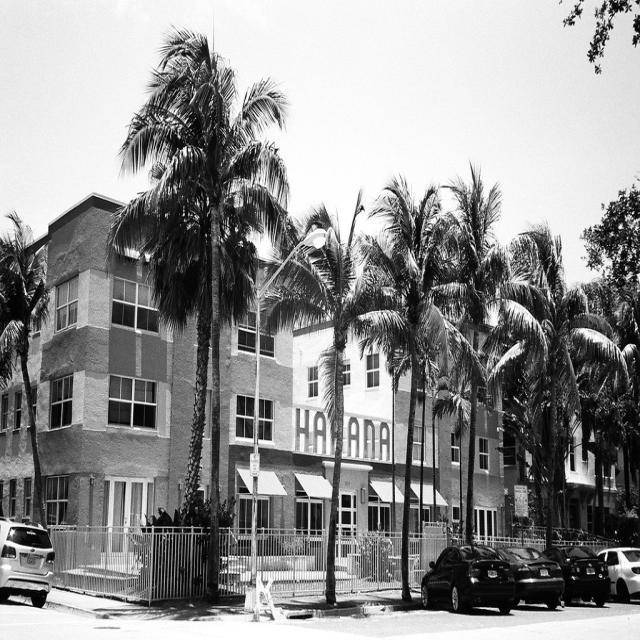car: (422, 548, 534, 617), (547, 537, 610, 605), (500, 545, 564, 603), (600, 538, 637, 599)
